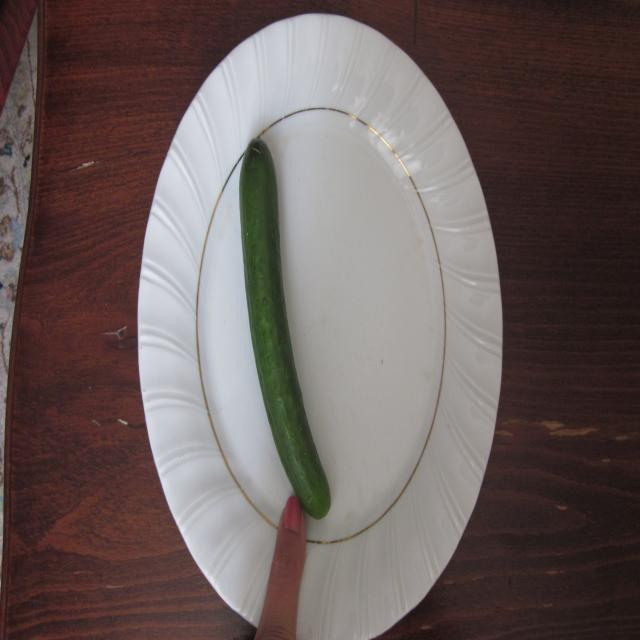cucumber: (236, 131, 350, 521)
